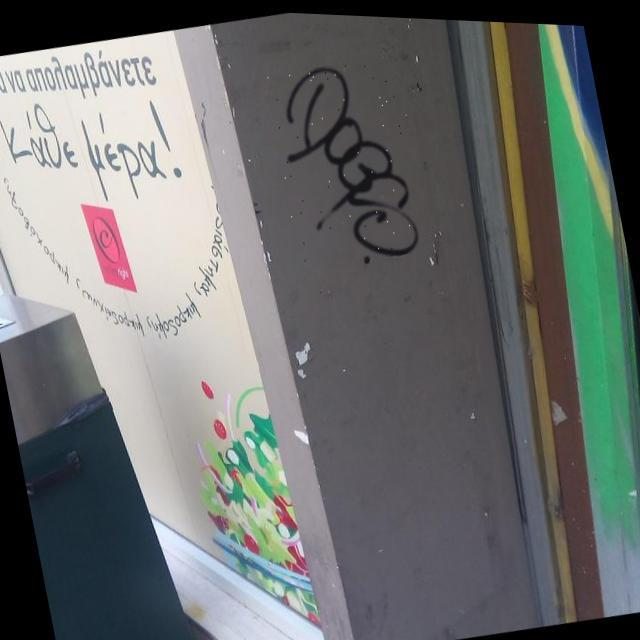-: (264, 48, 429, 272)
